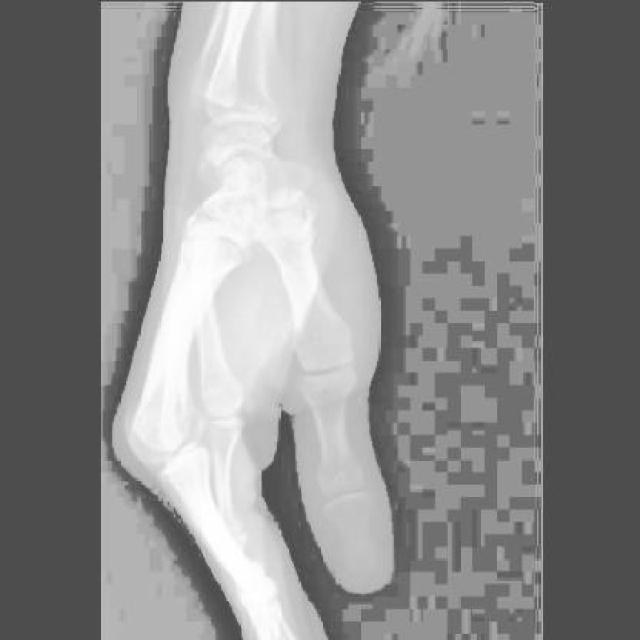Fracture: (172, 182, 225, 231)
